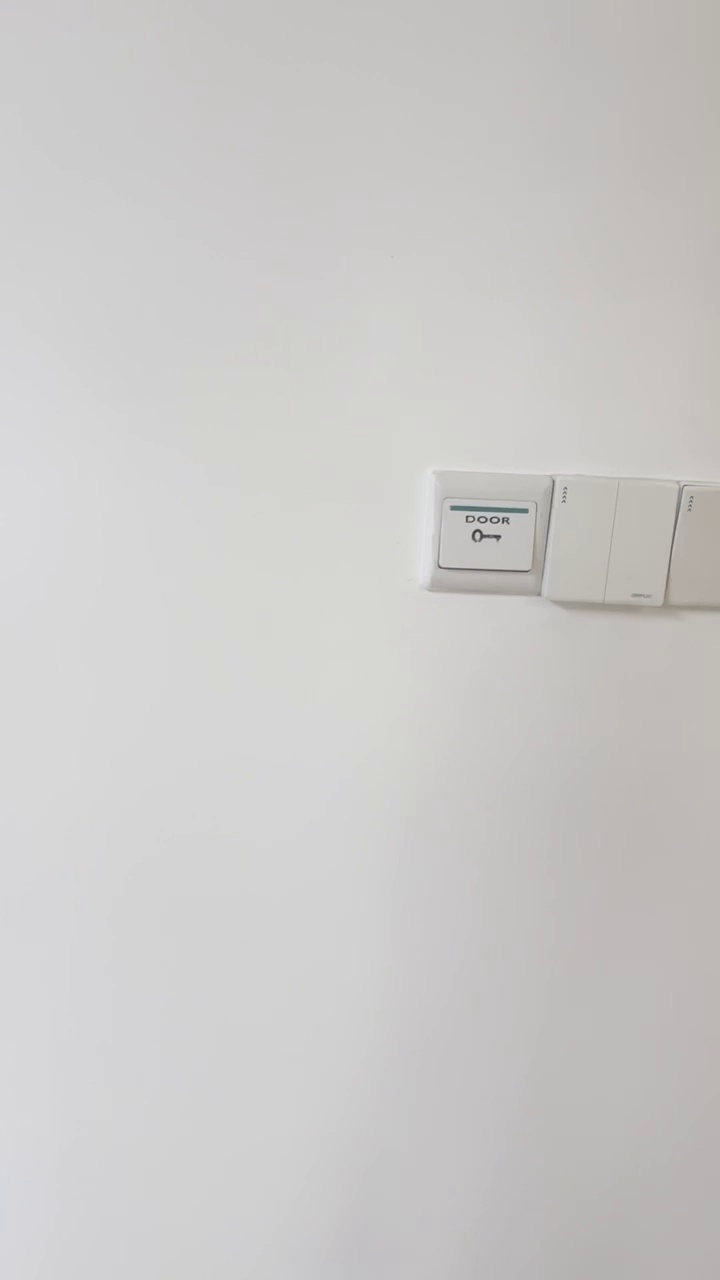button: (542, 473, 681, 614), (669, 481, 720, 605)
